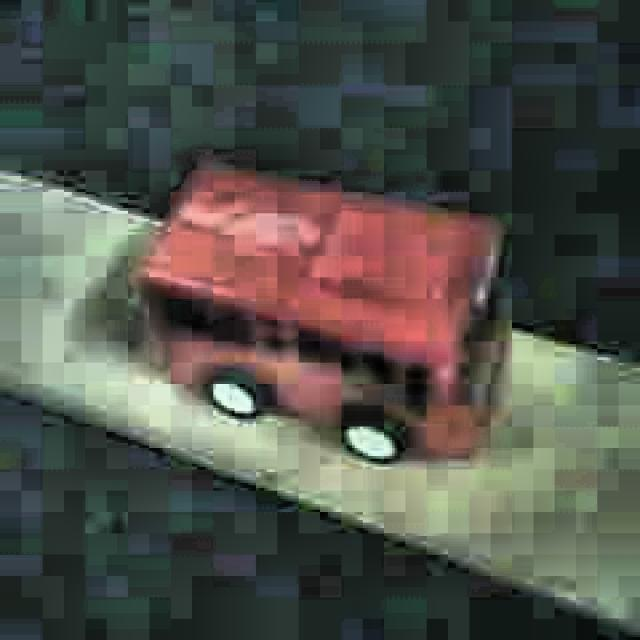bus: (135, 163, 514, 469)
